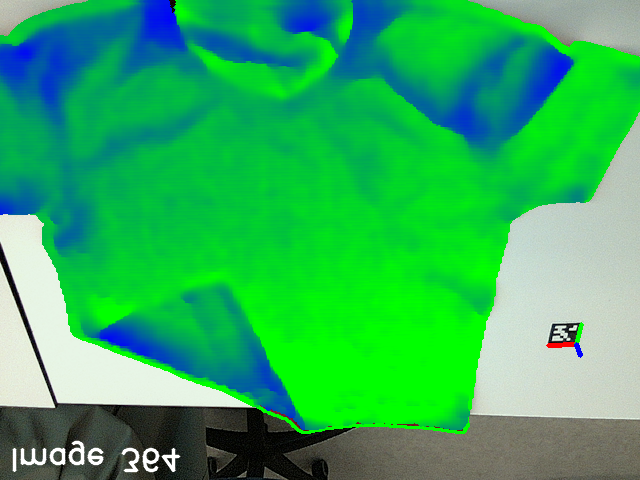V: (196, 266, 242, 314)
